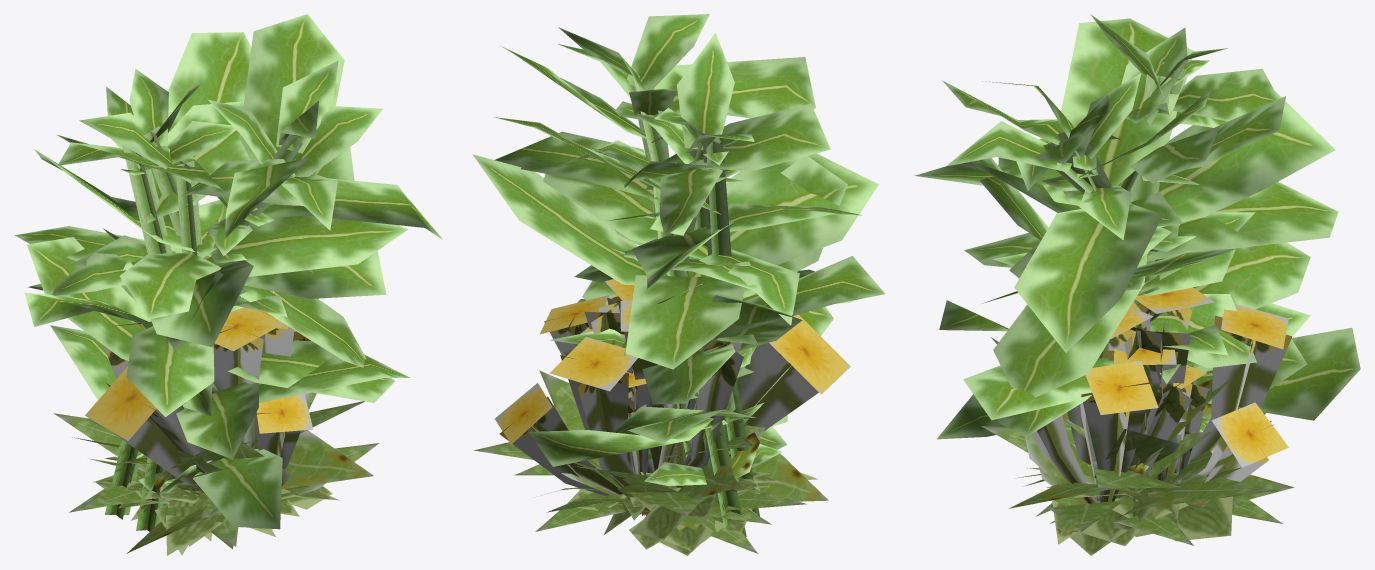
The model's file is undergrowth_1k.gltf.
The picture shows the model from 3 angles, left to right: view 1: azimuth 30°, elevation 25°; view 2: azimuth 150°, elevation 25°; view 3: azimuth 270°, elevation 25°; orthographic projection. The views are drawn at different scales.
Parts seen in each view (by area): view 1: Lactuca_004_Lactuc_Mat_0__LOD0, Lactuca_002_Lactuc_Mat_0__LOD0, Lactuca_003_Lactuc_Mat_0__LOD0, Lactuca_005_Lactuc_Mat_0__LOD0, Lactuca_001_Lactuc_Mat_0__LOD0, Dandelion_002_Dandelion_Mat_0__LOD0, Dandelion_001_Dandelion_Mat_0__LOD0, Dandelion_003_Dandelion_Mat_0__LOD0, Dandelion_004_Dandelion_Mat_0__LOD0, Plantain_004_Plantain_Mat_0__LOD0, Dandelion_005_Dandelion_Mat_0__LOD0, Plantain_002_Plantain_Mat_0__LOD0 (+2 smaller); view 2: Lactuca_003_Lactuc_Mat_0__LOD0, Lactuca_002_Lactuc_Mat_0__LOD0, Lactuca_001_Lactuc_Mat_0__LOD0, Lactuca_004_Lactuc_Mat_0__LOD0, Dandelion_003_Dandelion_Mat_0__LOD0, Lactuca_005_Lactuc_Mat_0__LOD0, Dandelion_002_Dandelion_Mat_0__LOD0, Dandelion_004_Dandelion_Mat_0__LOD0, Dandelion_005_Dandelion_Mat_0__LOD0, Dandelion_001_Dandelion_Mat_0__LOD0, Plantain_002_Plantain_Mat_0__LOD0, Plantain_003_Plantain_Mat_0__LOD0 (+3 smaller); view 3: Lactuca_002_Lactuc_Mat_0__LOD0, Lactuca_003_Lactuc_Mat_0__LOD0, Lactuca_005_Lactuc_Mat_0__LOD0, Lactuca_001_Lactuc_Mat_0__LOD0, Dandelion_003_Dandelion_Mat_0__LOD0, Dandelion_001_Dandelion_Mat_0__LOD0, Lactuca_004_Lactuc_Mat_0__LOD0, Dandelion_002_Dandelion_Mat_0__LOD0, Dandelion_004_Dandelion_Mat_0__LOD0, Dandelion_005_Dandelion_Mat_0__LOD0, Plantain_005_Plantain_Mat_0__LOD0, Plantain_004_Plantain_Mat_0__LOD0 (+3 smaller).
Part boxes in pixels (<box>): Lactuca_004_Lactuc_Mat_0__LOD0: <box>27,87,407,531</box>; Lactuca_002_Lactuc_Mat_0__LOD0: <box>24,14,442,519</box>; Lactuca_003_Lactuc_Mat_0__LOD0: <box>34,61,394,493</box>; Lactuca_005_Lactuc_Mat_0__LOD0: <box>14,112,410,529</box>; Lactuca_001_Lactuc_Mat_0__LOD0: <box>28,32,386,490</box>; Dandelion_002_Dandelion_Mat_0__LOD0: <box>85,307,379,501</box>; Dandelion_001_Dandelion_Mat_0__LOD0: <box>127,310,316,553</box>; Dandelion_003_Dandelion_Mat_0__LOD0: <box>83,289,373,549</box>; Dandelion_004_Dandelion_Mat_0__LOD0: <box>54,321,253,490</box>; Plantain_004_Plantain_Mat_0__LOD0: <box>129,489,339,555</box>; Dandelion_005_Dandelion_Mat_0__LOD0: <box>69,401,364,512</box>; Plantain_002_Plantain_Mat_0__LOD0: <box>95,456,332,546</box>; Lactuca_003_Lactuc_Mat_0__LOD0: <box>472,14,833,449</box>; Lactuca_002_Lactuc_Mat_0__LOD0: <box>494,44,884,536</box>; Lactuca_001_Lactuc_Mat_0__LOD0: <box>493,33,847,461</box>; Lactuca_004_Lactuc_Mat_0__LOD0: <box>543,134,858,516</box>; Dandelion_003_Dandelion_Mat_0__LOD0: <box>495,298,771,531</box>; Lactuca_005_Lactuc_Mat_0__LOD0: <box>582,110,861,426</box>; Dandelion_002_Dandelion_Mat_0__LOD0: <box>553,314,850,459</box>; Dandelion_004_Dandelion_Mat_0__LOD0: <box>558,301,765,515</box>; Dandelion_005_Dandelion_Mat_0__LOD0: <box>533,305,806,553</box>; Dandelion_001_Dandelion_Mat_0__LOD0: <box>473,279,828,501</box>; Plantain_002_Plantain_Mat_0__LOD0: <box>631,468,759,550</box>; Plantain_003_Plantain_Mat_0__LOD0: <box>640,472,769,555</box>; Lactuca_002_Lactuc_Mat_0__LOD0: <box>914,88,1360,431</box>; Lactuca_003_Lactuc_Mat_0__LOD0: <box>939,18,1335,474</box>; Lactuca_005_Lactuc_Mat_0__LOD0: <box>937,27,1338,439</box>; Lactuca_001_Lactuc_Mat_0__LOD0: <box>972,14,1310,400</box>; Dandelion_003_Dandelion_Mat_0__LOD0: <box>980,303,1294,523</box>; Dandelion_001_Dandelion_Mat_0__LOD0: <box>1025,311,1277,545</box>; Lactuca_004_Lactuc_Mat_0__LOD0: <box>964,60,1310,371</box>; Dandelion_002_Dandelion_Mat_0__LOD0: <box>1047,302,1232,531</box>; Dandelion_004_Dandelion_Mat_0__LOD0: <box>991,287,1271,484</box>; Dandelion_005_Dandelion_Mat_0__LOD0: <box>1027,317,1241,488</box>; Plantain_005_Plantain_Mat_0__LOD0: <box>1050,474,1237,541</box>; Plantain_004_Plantain_Mat_0__LOD0: <box>1046,464,1249,546</box>.
Size of the model in its own units: 0.4951 by 0.5407 by 0.4541.
Materials: 3 (3 with a texture image).
